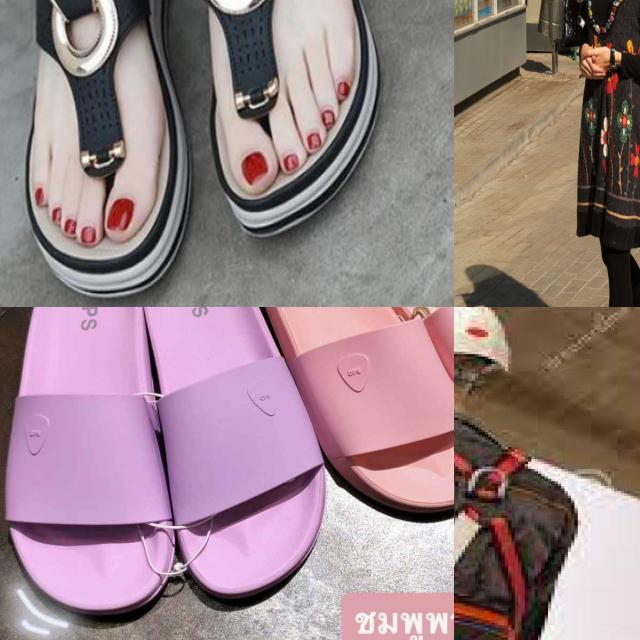Harness: (454, 427, 551, 640)
Sandals: (0, 0, 381, 307), (0, 307, 340, 620), (250, 307, 454, 530)
